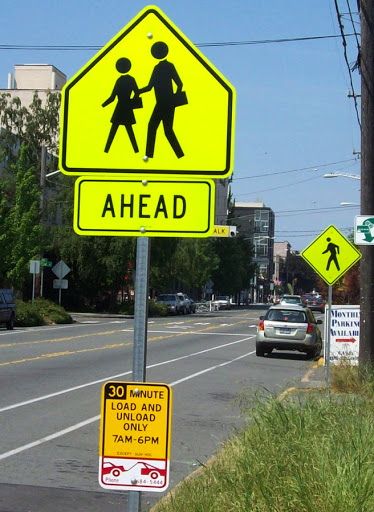slow: (55, 4, 234, 181)
